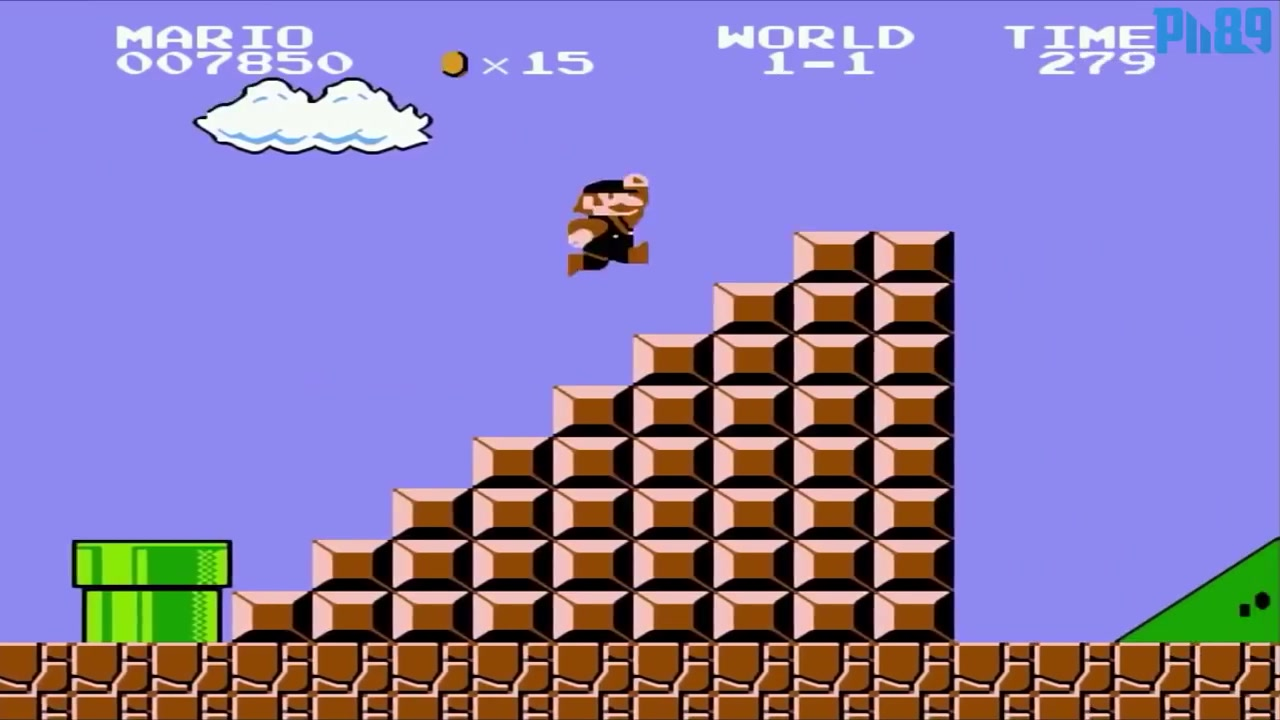mario: (548, 155, 673, 281)
